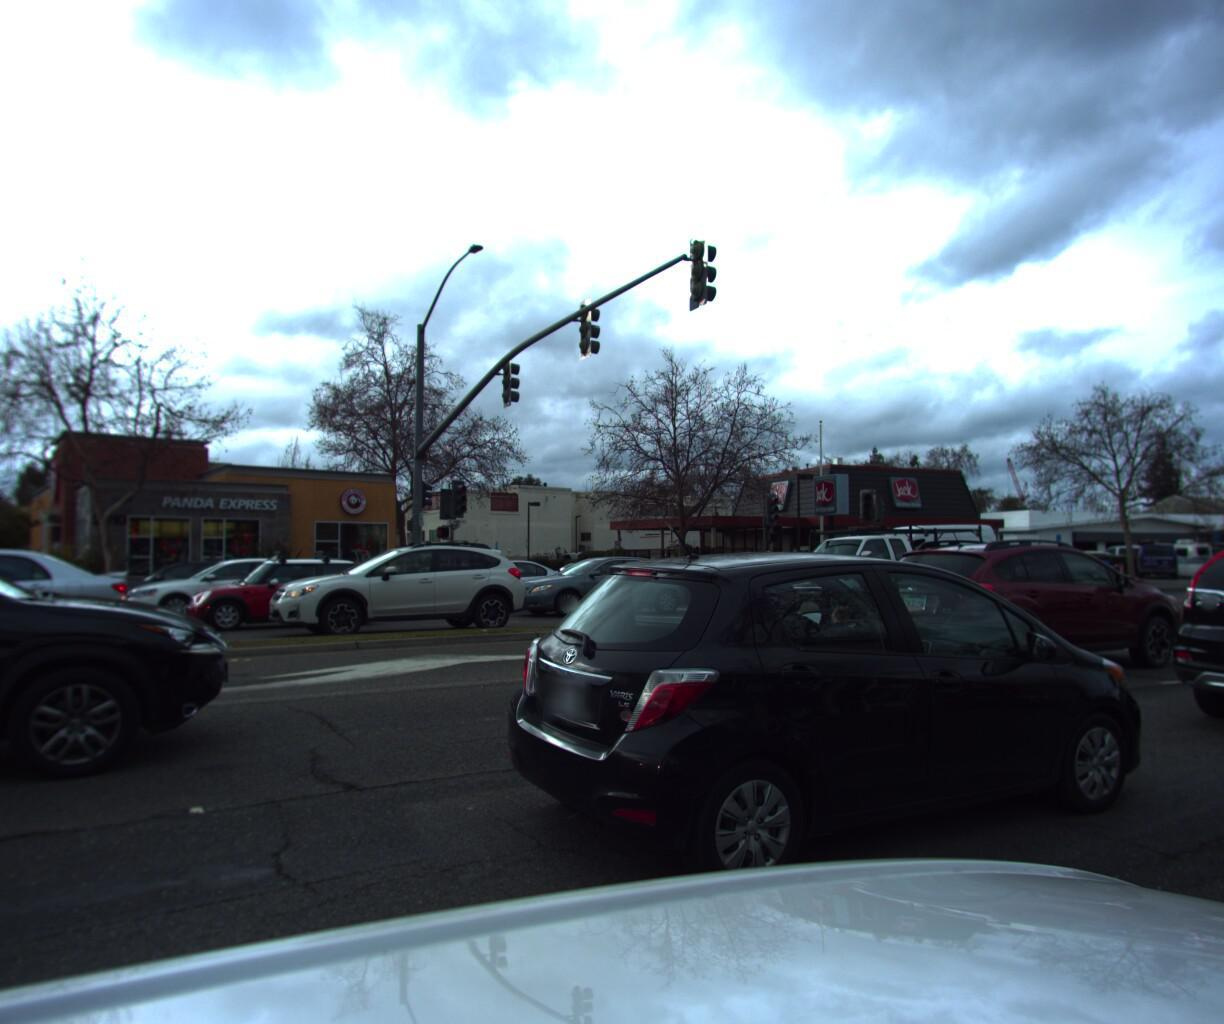car: (539, 544, 1224, 940), (0, 493, 232, 881), (881, 531, 1202, 683), (266, 536, 541, 640), (752, 519, 999, 619), (177, 554, 421, 633), (0, 547, 140, 674), (118, 555, 340, 627), (1166, 518, 1224, 768), (838, 518, 1006, 591), (498, 551, 698, 612), (85, 554, 276, 618), (431, 553, 599, 607), (676, 544, 818, 598), (1086, 541, 1176, 569), (1128, 532, 1178, 576), (1033, 526, 1107, 551)
other_vehicle: (1113, 535, 1211, 568)
